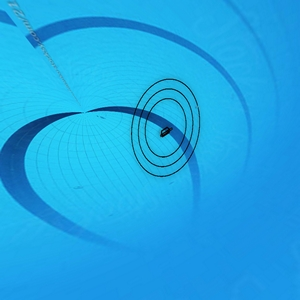circle: (128, 75, 206, 183)
submarine: (159, 127, 173, 137)
